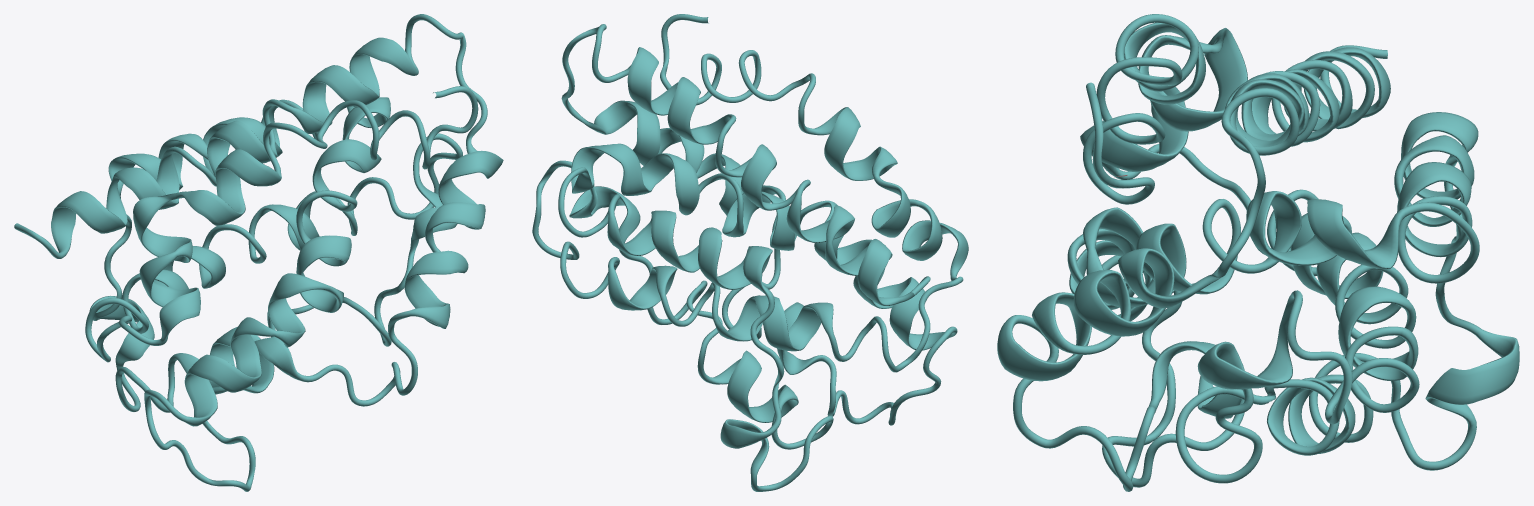
Rendered from CwP3XhDHXN1F.gltf.
3 views of the same model, side by side, from view 1: azimuth 30°, elevation 25°; view 2: azimuth 150°, elevation 25°; view 3: azimuth 270°, elevation 25° (orthographic). The views are drawn at different scales.
Visible parts, largest first — view 1: vmd_mol1_rep1; view 2: vmd_mol1_rep1; view 3: vmd_mol1_rep1.
Boxes of the visible parts, x1,y1,x2,y2 form: vmd_mol1_rep1: (14, 14, 503, 491); vmd_mol1_rep1: (532, 14, 968, 491); vmd_mol1_rep1: (997, 14, 1519, 491).
Size of the model in its own units: 1.61 by 1.42 by 1.22.
